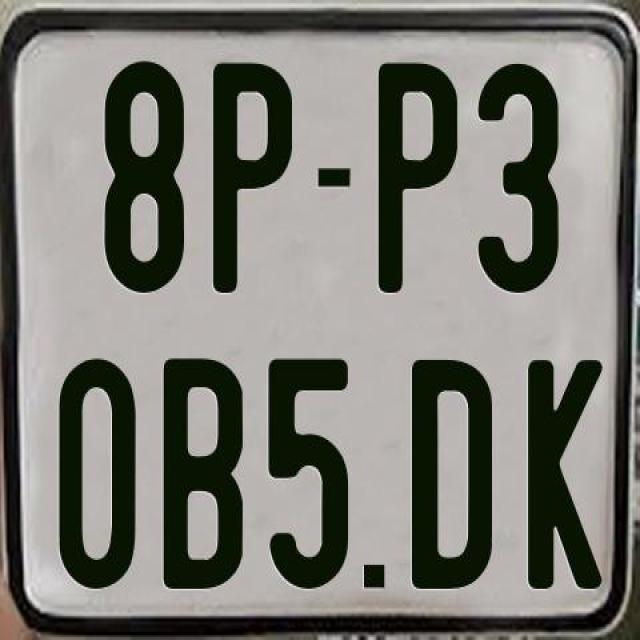0: (56, 358, 140, 594)
3: (477, 64, 559, 299)
5: (268, 357, 356, 589)
8: (102, 56, 186, 296)
B: (163, 358, 244, 598)
D: (412, 355, 497, 587)
K: (524, 360, 599, 592)
P: (209, 59, 291, 299), (375, 59, 453, 296)
